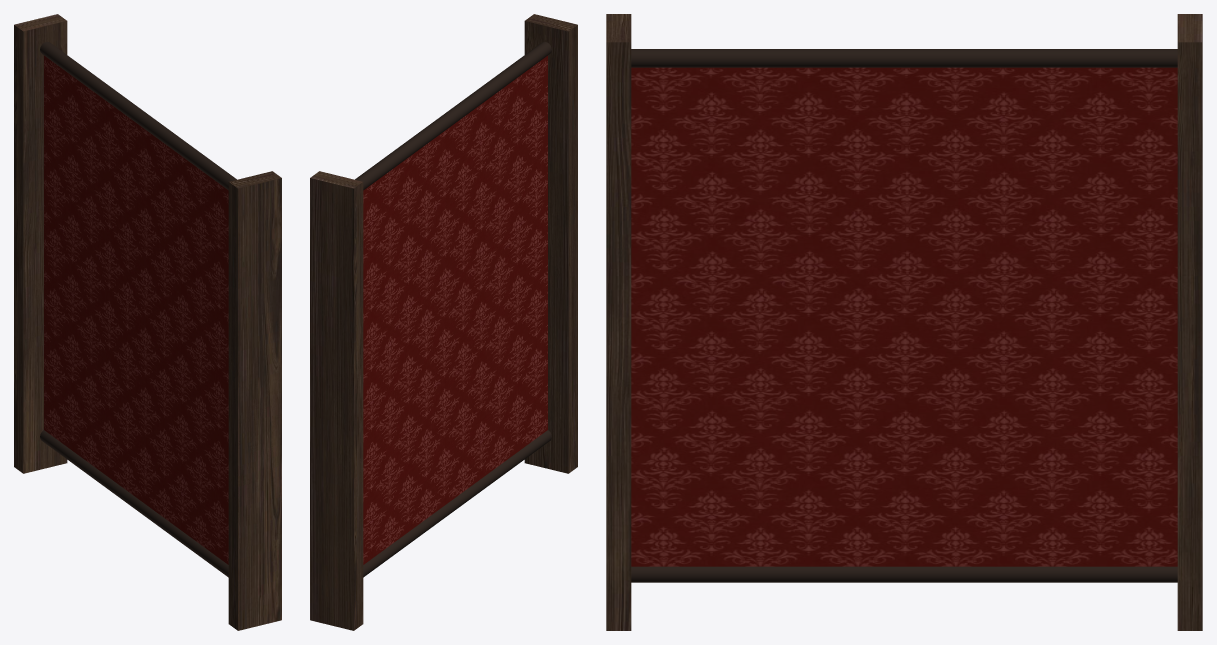
The model's file is F_Curtain_01.fbx.
3 views of the same model, side by side, from view 1: azimuth 30°, elevation 25°; view 2: azimuth 150°, elevation 25°; view 3: azimuth 270°, elevation 25° (orthographic). The views are drawn at different scales.
Visible parts, largest first — view 1: F_Curtain_01; view 2: F_Curtain_01; view 3: F_Curtain_01.
Part boxes in pixels (left/top/right/bottom): F_Curtain_01: left=14, top=14, right=281, bottom=630; F_Curtain_01: left=310, top=14, right=577, bottom=630; F_Curtain_01: left=606, top=14, right=1202, bottom=630.
Bounding box in the file's own units: 20.75 × 200 × 184.
